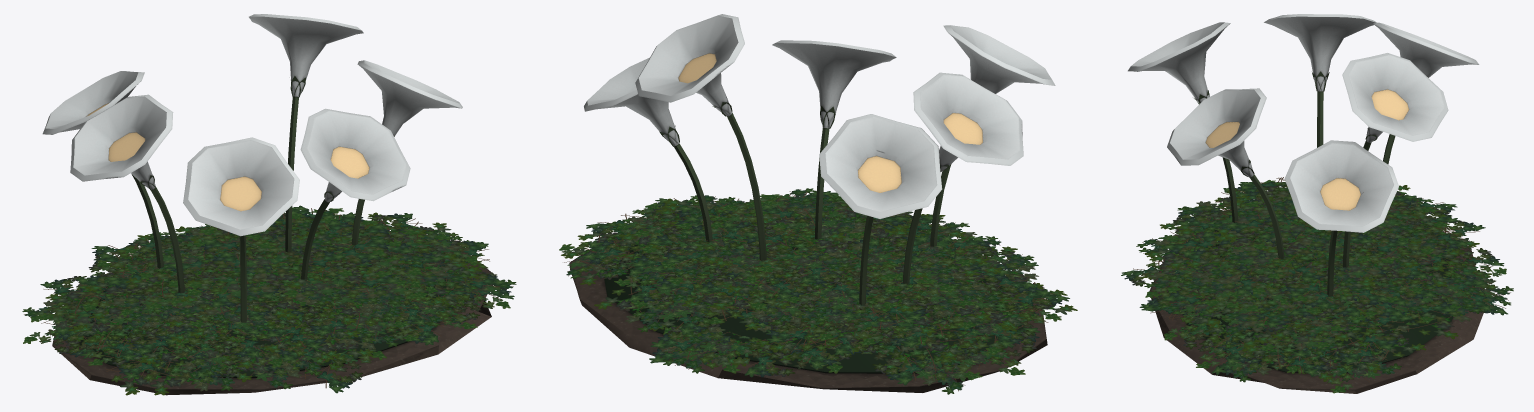
The model's file is MoonflowerPatch.fbx.
3 renders of one model, left to right at view 1: azimuth 30°, elevation 25°; view 2: azimuth 150°, elevation 25°; view 3: azimuth 270°, elevation 25°, orthographic. The views are drawn at different scales.
Visible parts, largest first — view 1: MoonflowerPatch_Leaves, MoonflowerPatch_Main, MoonflowerPatch_Glow; view 2: MoonflowerPatch_Leaves, MoonflowerPatch_Main, MoonflowerPatch_Glow; view 3: MoonflowerPatch_Leaves, MoonflowerPatch_Main, MoonflowerPatch_Glow.
Part boxes in pixels (x1,y1,x2,y2): MoonflowerPatch_Leaves: (22, 205, 516, 395); MoonflowerPatch_Main: (42, 14, 495, 395); MoonflowerPatch_Glow: (86, 103, 369, 211); MoonflowerPatch_Leaves: (559, 188, 1077, 394); MoonflowerPatch_Main: (569, 14, 1055, 392); MoonflowerPatch_Glow: (678, 53, 982, 192); MoonflowerPatch_Leaves: (1121, 177, 1513, 393); MoonflowerPatch_Main: (1128, 14, 1483, 393); MoonflowerPatch_Glow: (1205, 89, 1408, 210).
Bounding box in the file's own units: 473 × 291 × 371.
